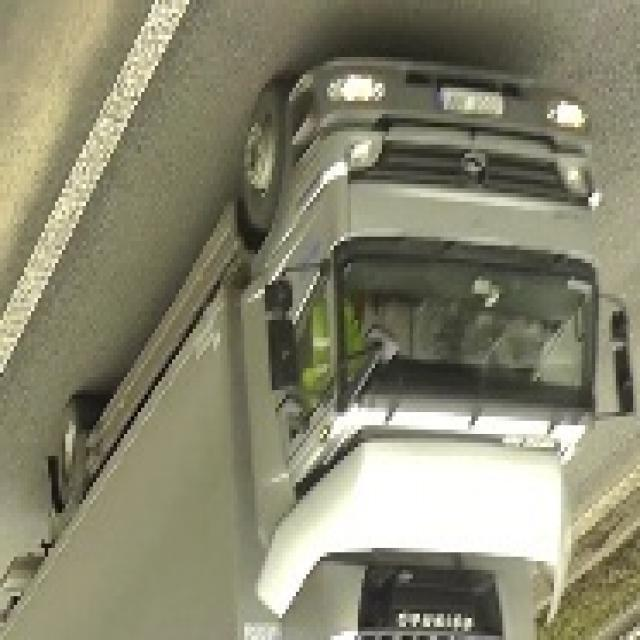Truck: (4, 57, 634, 640)
